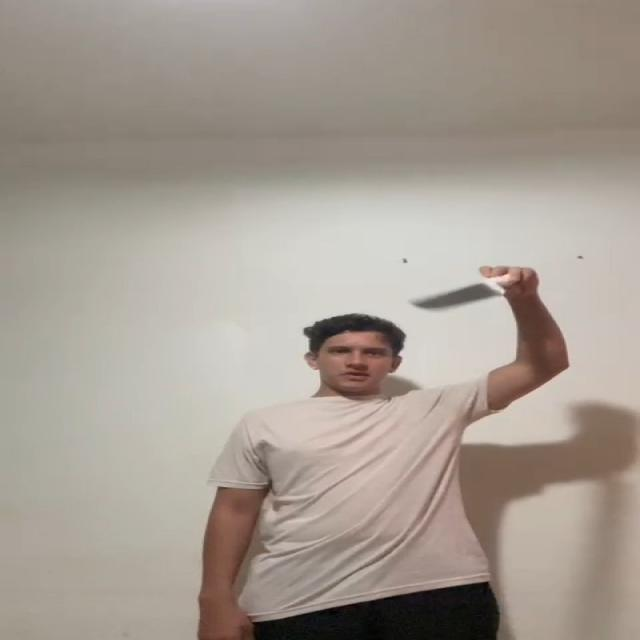knife: (413, 280, 502, 306)
